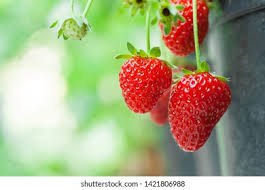ripe: (166, 65, 234, 154), (118, 53, 172, 113), (151, 7, 214, 56), (151, 70, 181, 128)
unripe: (55, 12, 87, 40)
